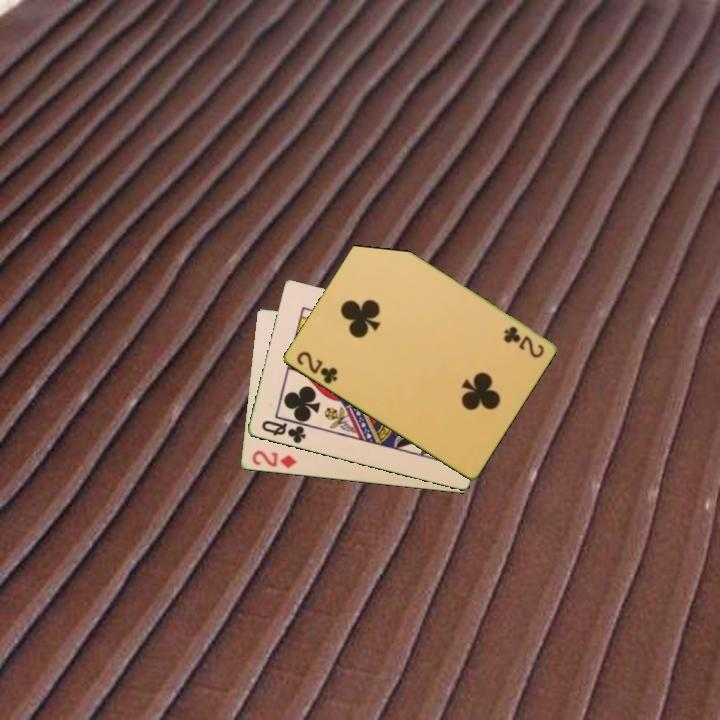2c: (293, 348, 340, 387), (500, 323, 547, 361)
2d: (248, 447, 299, 471)
Qc: (258, 417, 309, 447)
